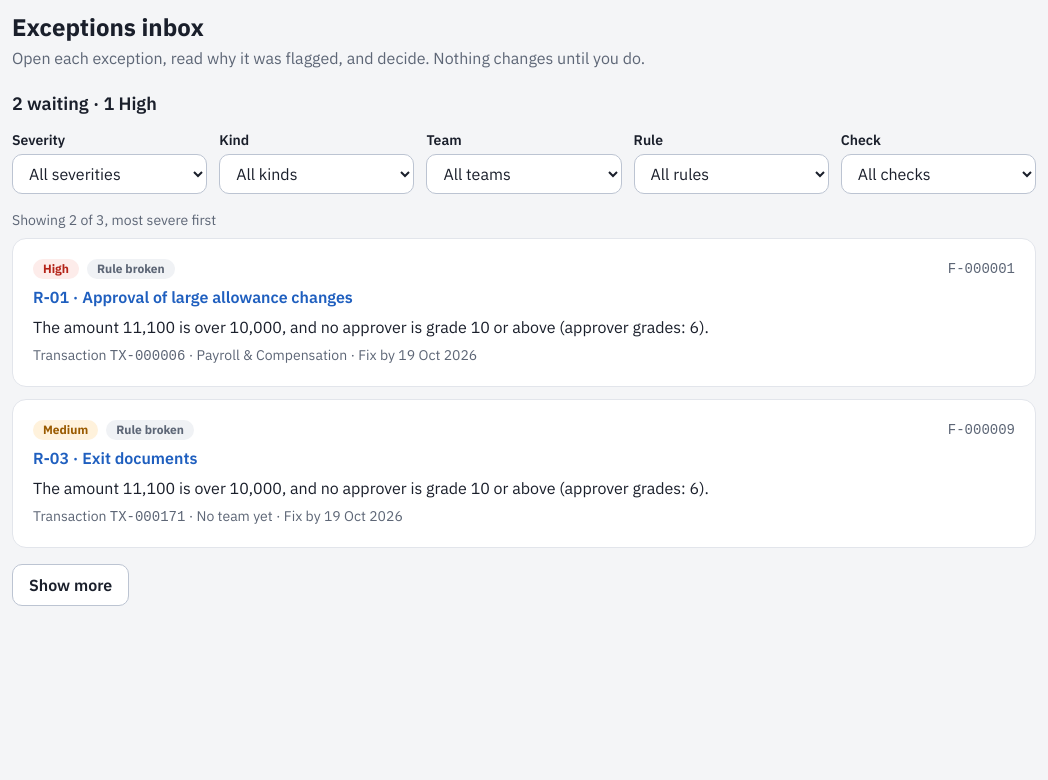
it: InboxPage › shows more on request
Click the button "Show more" at (71, 585), box top-left (12, 564), bottom-right (129, 606)
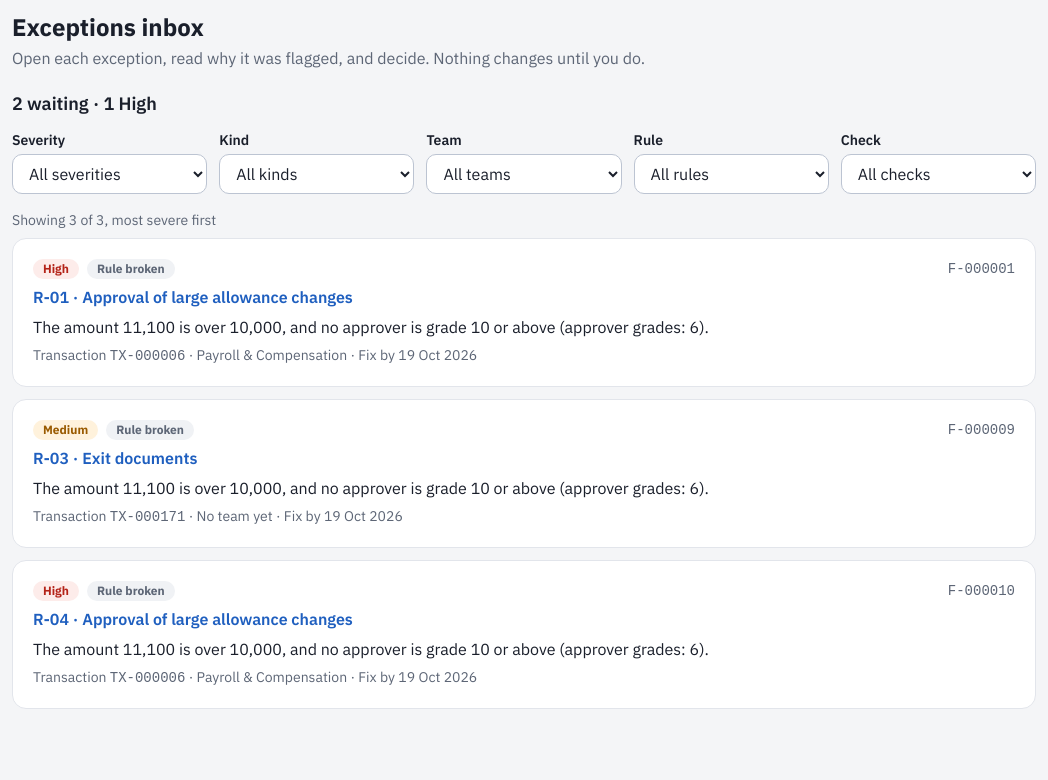
expect the text "Showing 3 of 3, most severe first" is shown: met, box top-left (12, 211), bottom-right (216, 229)
